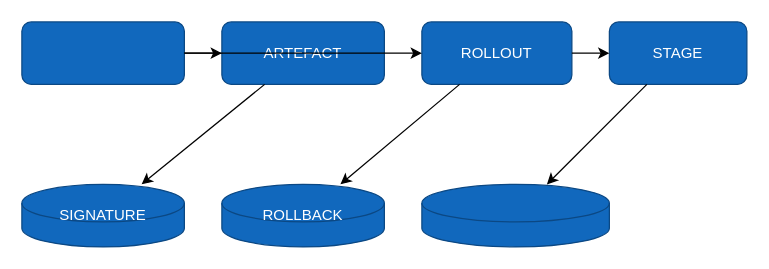
This 769x269 diagram has some shape labels left out. Each missing label, with the box of its shape:
HEALTH_GATE: (421, 183, 609, 247)
RELEASE: (21, 21, 184, 84)
